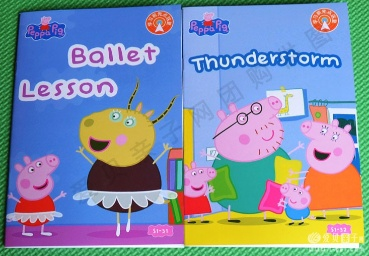Peppa: (10, 152, 66, 238), (182, 162, 214, 227)
